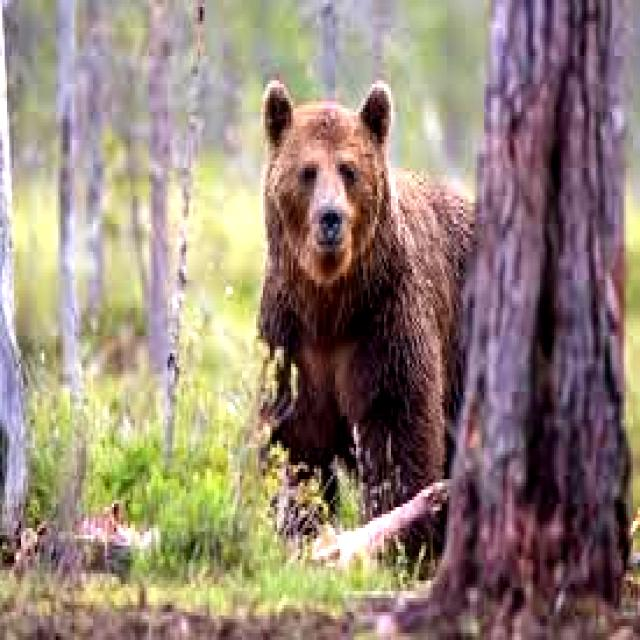bear: (252, 69, 470, 541)
